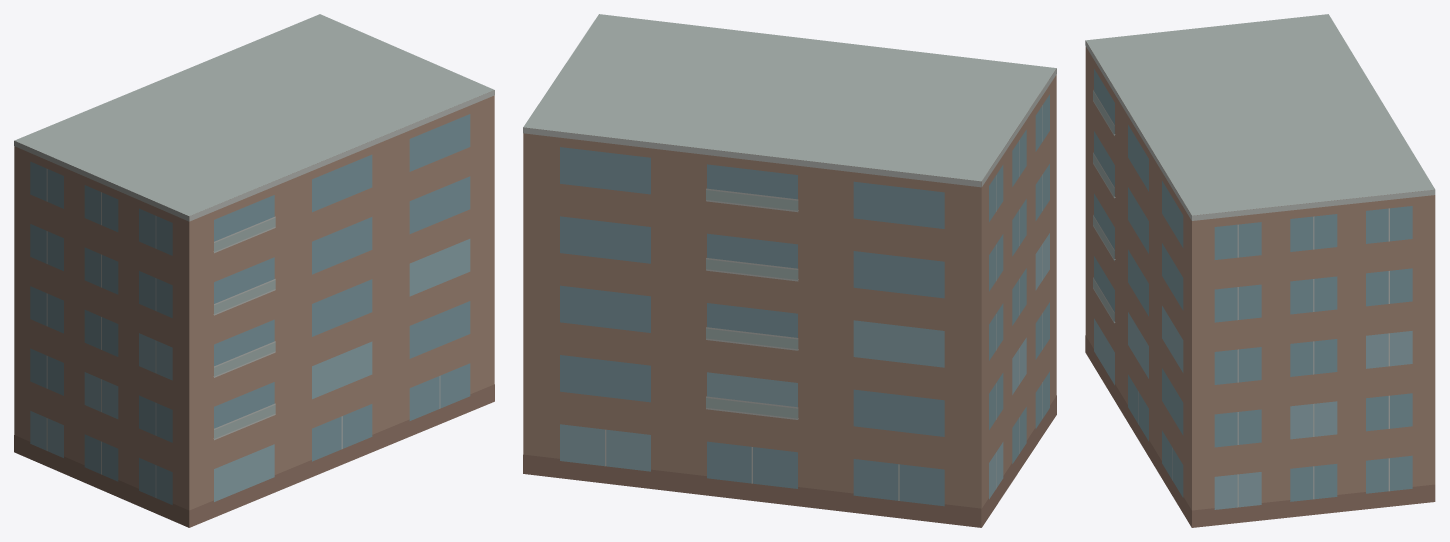
Rendered from survey-upis-32717885.glb.
The picture shows the model from 3 angles, left to right: view 1: azimuth 30°, elevation 25°; view 2: azimuth 150°, elevation 25°; view 3: azimuth 270°, elevation 25°; orthographic projection. The views are drawn at different scales.
Visible parts, largest first — view 1: survey-upis-32717885.tmp; view 2: survey-upis-32717885.tmp; view 3: survey-upis-32717885.tmp.
Part boxes in pixels (x1,y1,x2,y2): survey-upis-32717885.tmp: (14, 14, 494, 527); survey-upis-32717885.tmp: (523, 14, 1056, 527); survey-upis-32717885.tmp: (1085, 14, 1435, 527).
Size of the model in its own units: 19.54 by 14.1 by 14.33.
